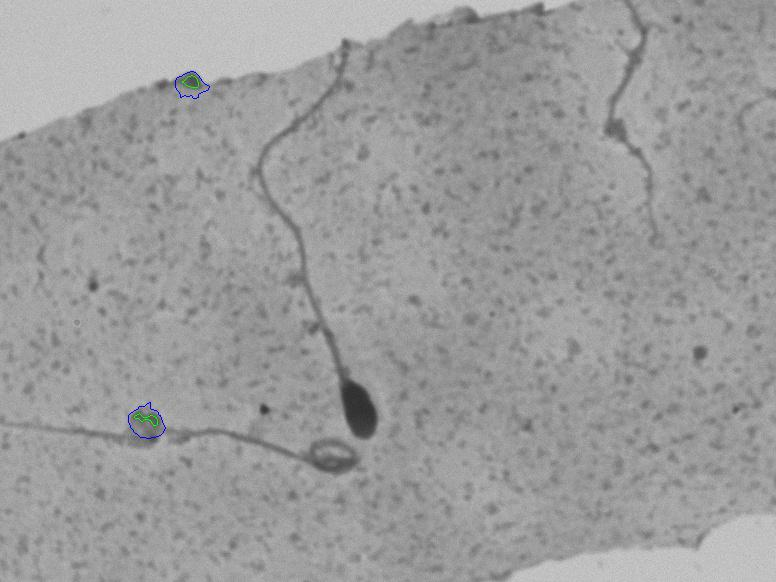Abnormal: (236, 64, 412, 447)
